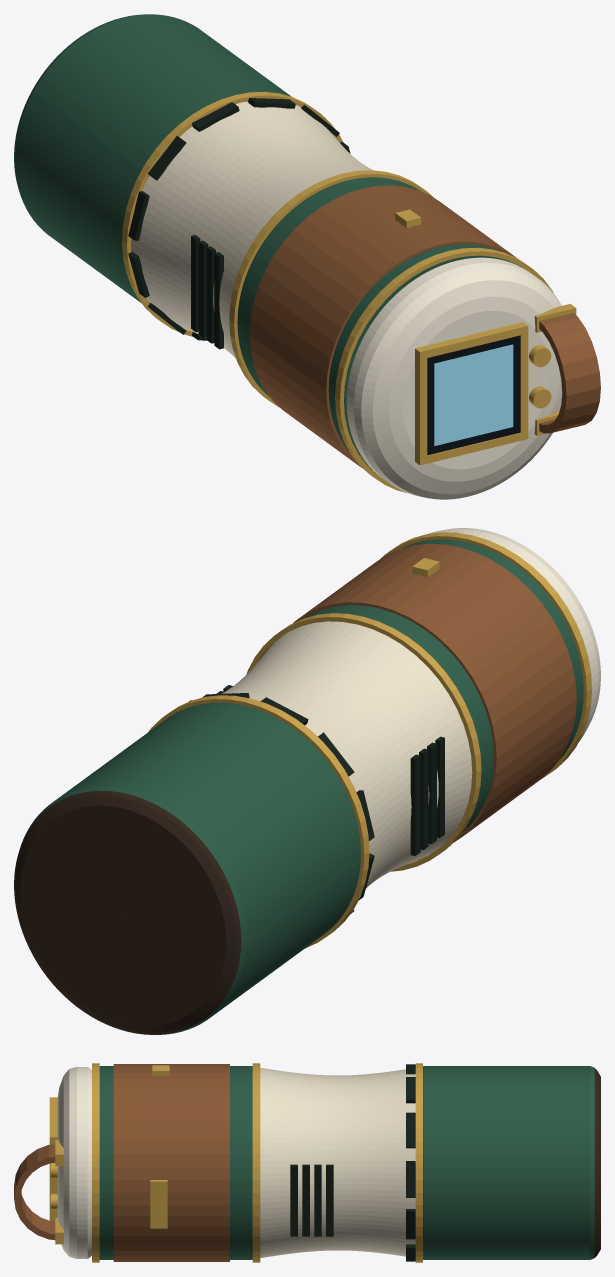
Rendered from thermox_bottle_classic_pull.obj.
3 views of the same model, one above another, from view 1: azimuth 30°, elevation 25°; view 2: azimuth 150°, elevation 25°; view 3: azimuth 270°, elevation 25° (orthographic). The views are drawn at different scales.
Visible parts, largest first — view 1: body_lower, lid_dome, grip_wrap, body_waist, body_upper, oled_screen, trim_band_3, trim_band_2, trim_band_1, oled_1_5in, oled_bezel_b, oled_bezel_c (+9 smaller); view 2: base_pad, body_lower, body_waist, grip_wrap, body_upper, trim_band_2, trim_band_1, trim_band_3, lid_dome, intake_slot_rear_1, intake_slot_rear_2, intake_slot_rear_3 (+1 smaller); view 3: body_lower, body_waist, grip_wrap, body_upper, lid_dome, trim_band_2, trim_band_1, trim_band_3, base_pad, nameplate, intake_slot_front_1, intake_slot_front_2 (+7 smaller).
Boxes of the visible parts, x1,y1,x2,y2 form: body_lower: (14, 14, 291, 303); lid_dome: (346, 257, 562, 499); grip_wrap: (249, 185, 516, 468); body_waist: (131, 101, 372, 358); body_upper: (237, 177, 522, 474); oled_screen: (434, 344, 513, 445); trim_band_3: (335, 247, 553, 492); trim_band_2: (229, 170, 432, 407); trim_band_1: (122, 92, 343, 336); oled_1_5in: (427, 335, 520, 455); oled_bezel_b: (415, 322, 528, 359); oled_bezel_c: (415, 356, 427, 457); base_pad: (14, 791, 241, 1034); body_lower: (21, 702, 360, 1034); body_waist: (221, 621, 472, 888); grip_wrap: (293, 543, 576, 842); body_upper: (270, 539, 583, 859); trim_band_2: (246, 613, 481, 871); trim_band_1: (148, 695, 369, 948); trim_band_3: (380, 532, 591, 777); lid_dome: (428, 528, 600, 741); intake_slot_rear_1: (410, 754, 420, 856); intake_slot_rear_2: (419, 748, 428, 850); intake_slot_rear_3: (427, 742, 436, 844); body_lower: (423, 1066, 594, 1259); body_waist: (260, 1068, 415, 1257); grip_wrap: (113, 1064, 229, 1261); body_upper: (99, 1066, 252, 1259); lid_dome: (57, 1067, 91, 1258); trim_band_2: (252, 1063, 260, 1262); trim_band_1: (415, 1063, 422, 1262); trim_band_3: (92, 1063, 99, 1262); base_pad: (594, 1068, 600, 1257); nameplate: (150, 1180, 167, 1228); intake_slot_front_1: (326, 1164, 333, 1236); intake_slot_front_2: (314, 1164, 321, 1236).
Bounding box in the file's own units: 92.5 × 97 × 272.
